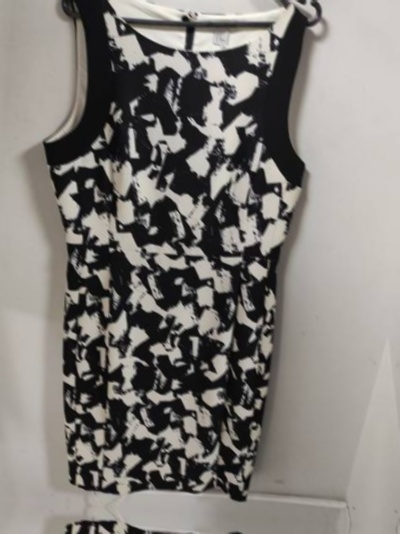Dress: (0, 0, 331, 515), (0, 505, 290, 534), (0, 0, 8, 490)
